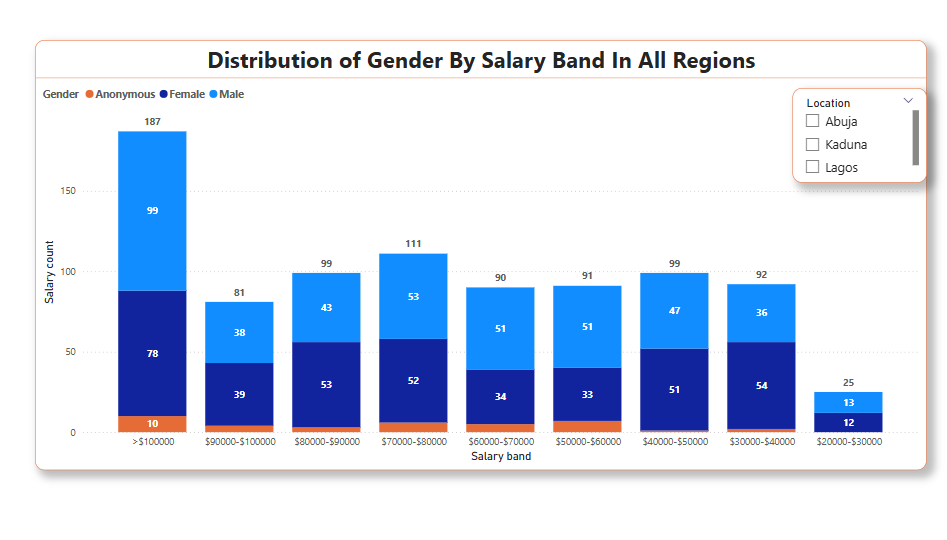

The dashboard page shown, as its layout file describes it:
{"tool":"powerbi","page":{"name":"Page 8","canvas":[1280,720],"ordinal":7},"visuals":[{"type":"columnChart","title":"Distribution of Gender By Salary Band In All Regions","fields":{"Category":["Palmoria Group emp-data.Salary band"],"Series":["Palmoria Group emp-data.Gender"],"Y":["Palmoria Group emp-data.Salary count"]},"box":[67.7,79.7,1123.3,541.8],"z":0},{"type":"slicer","fields":{"Values":["Palmoria Group emp-data.Location"]},"box":[1021.8,139.4,169.3,119.5],"z":1000}]}

Visuals, with their boxes in screenshot pixels (x1, y1, x2, y2), scaled from the page's 1280x720 canvas onto the 947x540 screenshot:
"Distribution of Gender By Salary Band In All Regions" columnChart: (x1=50, y1=60, x2=881, y2=466)
slicer - Palmoria Group emp-data.Location: (x1=756, y1=105, x2=881, y2=194)
